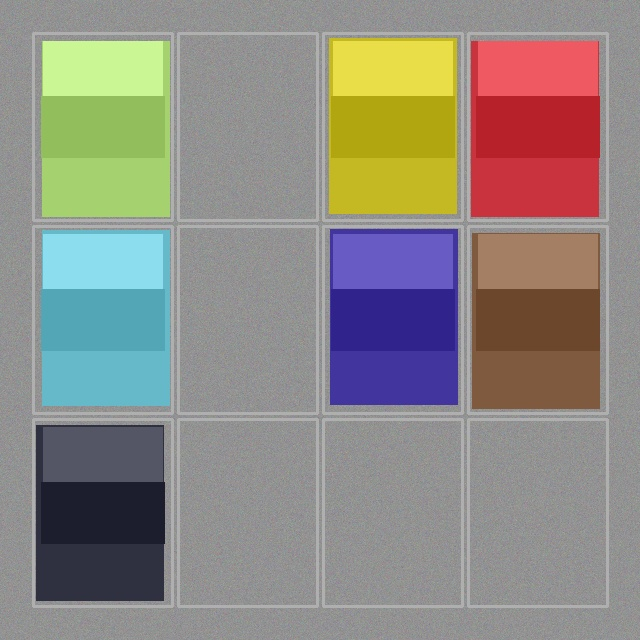space-empty: (180, 35, 315, 218), (180, 228, 315, 411), (180, 421, 315, 604), (325, 421, 460, 604), (470, 421, 605, 604)
space-occupied: (35, 35, 170, 218), (325, 35, 460, 218), (470, 35, 605, 218), (35, 228, 170, 411), (325, 228, 460, 411), (470, 228, 605, 411), (35, 421, 170, 604)
